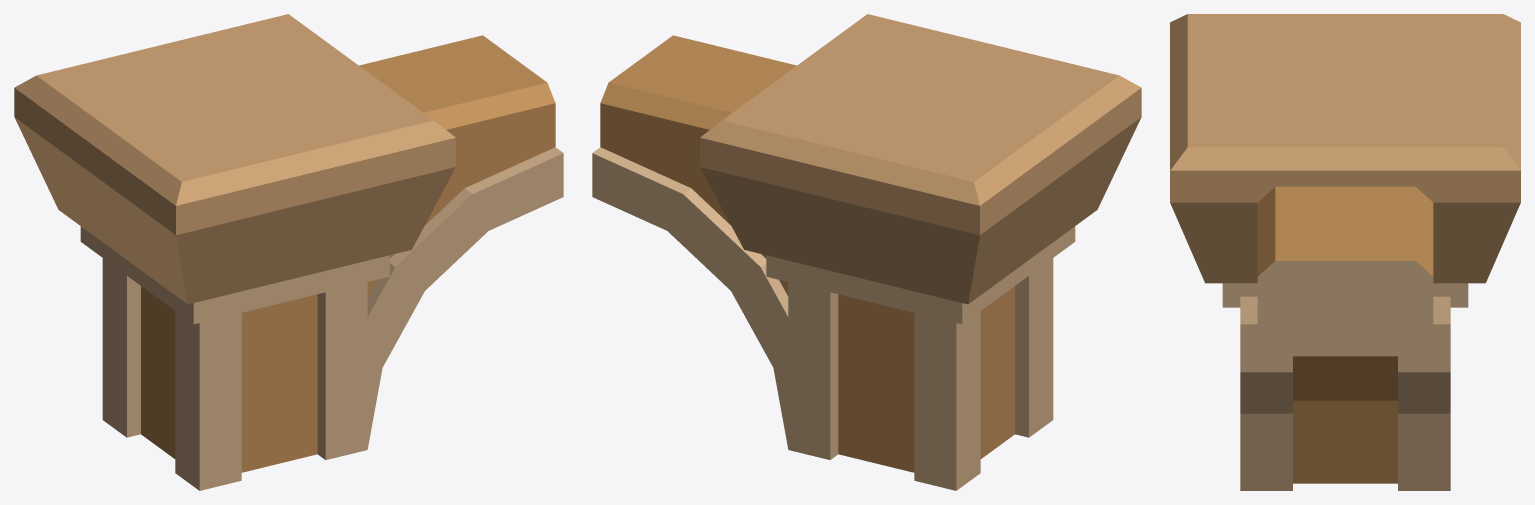
File: Pillar_Large_Arch_Top.fbx
3 views of the same model, side by side, from view 1: azimuth 30°, elevation 25°; view 2: azimuth 150°, elevation 25°; view 3: azimuth 270°, elevation 25° (orthographic). The views are drawn at different scales.
Visible parts, largest first — view 1: Sandstone_5.Sandstone_5, Sandstone_4.Sandstone_4.Sandstone_4.Sandstone_4.Sandstone_4., Sandstone_6.Sandstone_6.Sandstone_6.Sandstone_6.Sandstone_6., Sandstone_4.Sandstone_4.object1; view 2: Sandstone_5.Sandstone_5, Sandstone_4.Sandstone_4.Sandstone_4.Sandstone_4.Sandstone_4., Sandstone_6.Sandstone_6.Sandstone_6.Sandstone_6.Sandstone_6., Sandstone_4.Sandstone_4.object1; view 3: Sandstone_5.Sandstone_5, Sandstone_4.Sandstone_4.Sandstone_4.Sandstone_4.Sandstone_4., Sandstone_6.Sandstone_6.Sandstone_6.Sandstone_6.Sandstone_6., Sandstone_4.Sandstone_4.object1.
Part boxes in pixels (x1,y1,x2,y2): Sandstone_5.Sandstone_5: (14, 14, 455, 304); Sandstone_4.Sandstone_4.Sandstone_4.Sandstone_4.Sandstone_4.: (102, 147, 563, 490); Sandstone_6.Sandstone_6.Sandstone_6.Sandstone_6.Sandstone_6.: (141, 35, 555, 472); Sandstone_4.Sandstone_4.object1: (80, 226, 389, 324); Sandstone_5.Sandstone_5: (700, 14, 1141, 304); Sandstone_4.Sandstone_4.Sandstone_4.Sandstone_4.Sandstone_4.: (592, 147, 1053, 490); Sandstone_6.Sandstone_6.Sandstone_6.Sandstone_6.Sandstone_6.: (600, 35, 1014, 472); Sandstone_4.Sandstone_4.object1: (766, 226, 1075, 324); Sandstone_5.Sandstone_5: (1170, 14, 1520, 283); Sandstone_4.Sandstone_4.Sandstone_4.Sandstone_4.Sandstone_4.: (1240, 261, 1450, 490); Sandstone_6.Sandstone_6.Sandstone_6.Sandstone_6.Sandstone_6.: (1257, 186, 1433, 483); Sandstone_4.Sandstone_4.object1: (1222, 283, 1468, 307).
Bounding box in the file's own units: 1.5 × 1.15 × 1.
